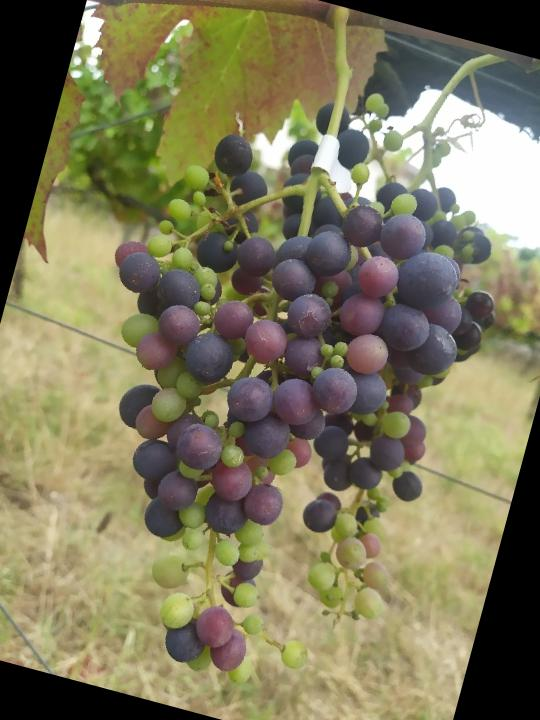grape: (16, 58, 513, 720)
